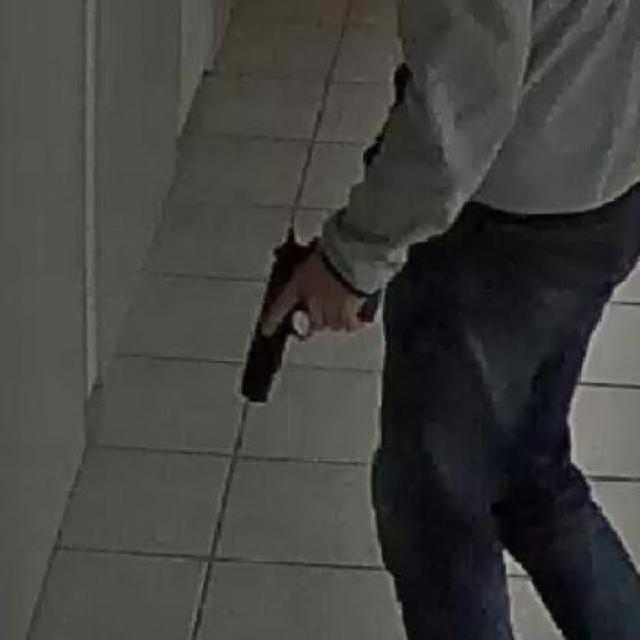gun: (240, 222, 385, 408)
